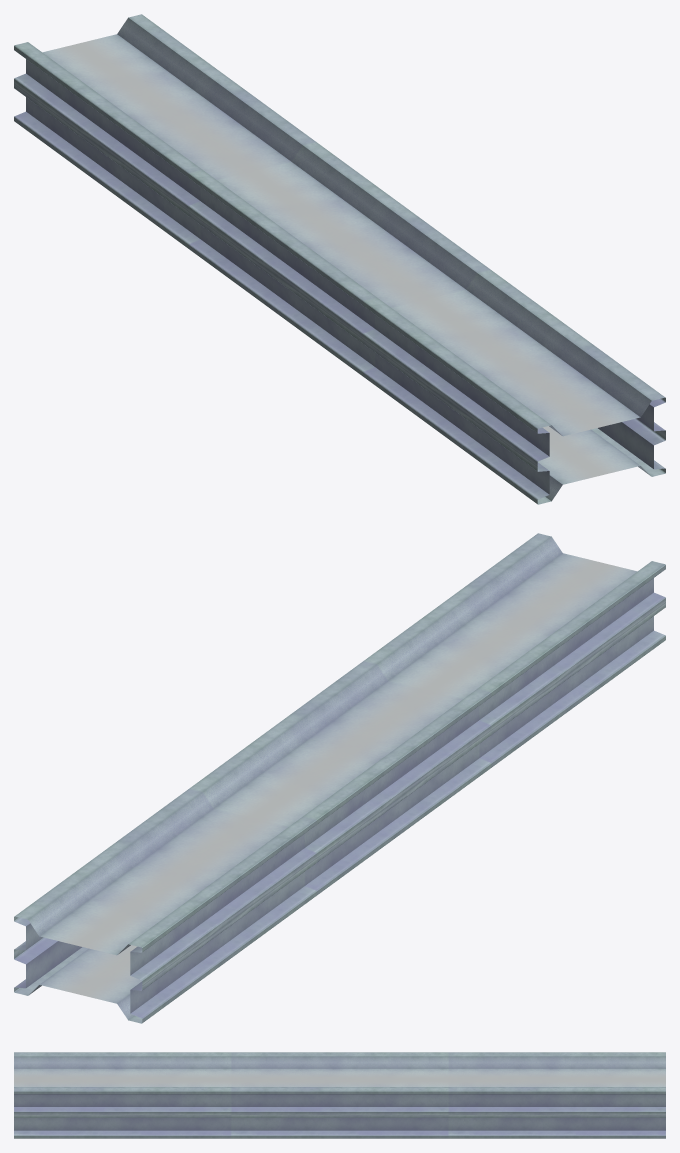
File: Train_Track_01.glb
The picture shows the model from 3 angles, top to bottom: view 1: azimuth 30°, elevation 25°; view 2: azimuth 150°, elevation 25°; view 3: azimuth 270°, elevation 25°; orthographic projection. The views are drawn at different scales.
Visible parts, largest first — view 1: Train_Track_01; view 2: Train_Track_01; view 3: Train_Track_01.
Boxes of the visible parts, x1=… form: Train_Track_01: x1=14, y1=14, x2=665, y2=504; Train_Track_01: x1=14, y1=533, x2=665, y2=1023; Train_Track_01: x1=14, y1=1052, x2=665, y2=1138.
Size of the model in its own units: 2.26 by 1.28 by 16.
Materials: 1 (1 with a texture image).
